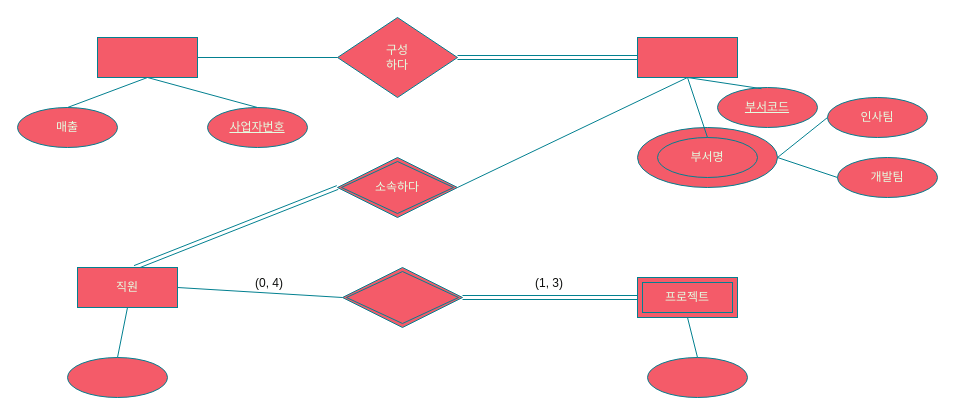
Image size: 955x415. Some labels were removed from this diagram. The shapes that lost their labels are listed below. From the top down, each one's box as (x1, y1, x2, y2) in pixels, then its label:
(96, 36, 198, 78): 기업
(636, 36, 738, 78): 부서
(342, 266, 462, 328): 수행하다
(66, 356, 168, 398): 사원증
(646, 356, 748, 398): 마감기한
